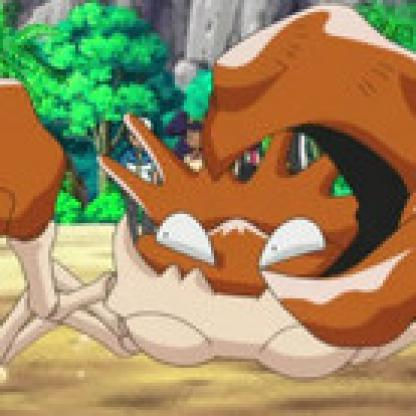Kingler: (1, 7, 414, 384)
